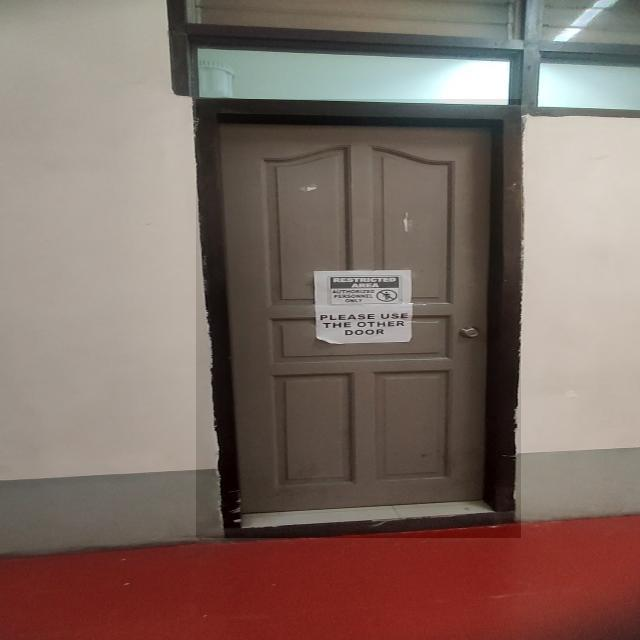door: (196, 99, 521, 538)
